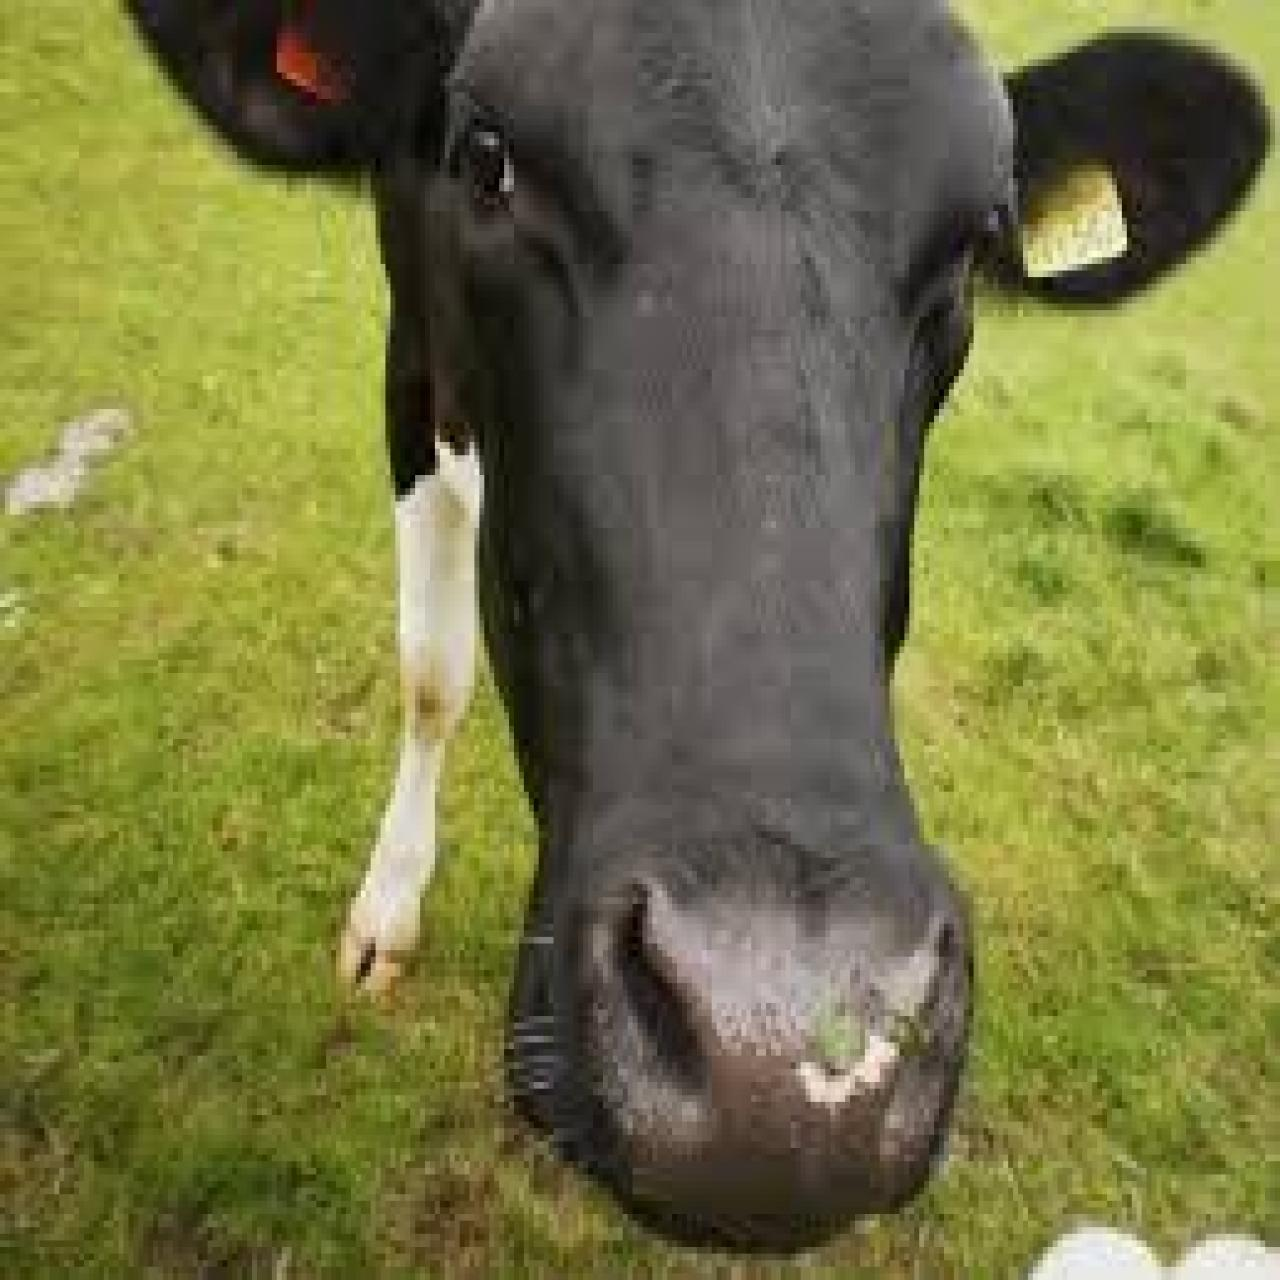cow: (124, 0, 1271, 1254)
